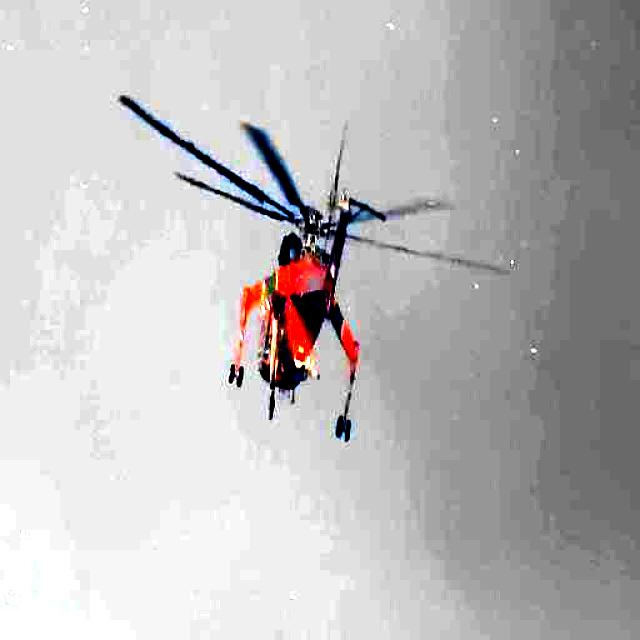drone: (118, 90, 516, 445)
